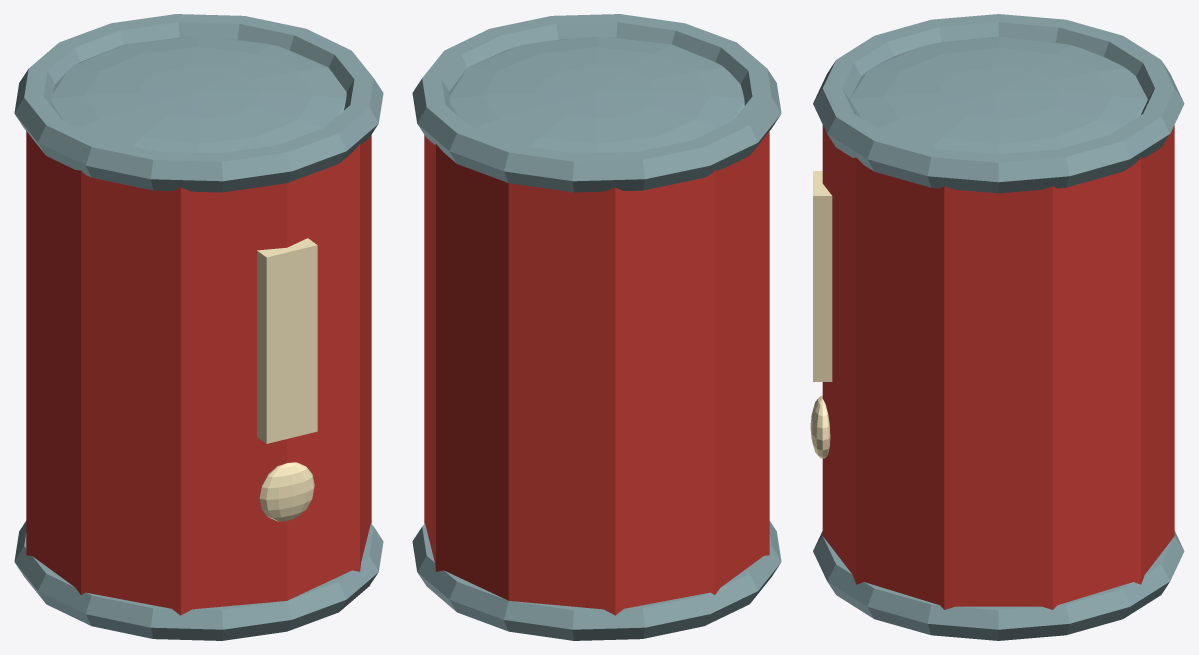
The model's file is fizzy.glb.
3 views of the same model, side by side, from view 1: azimuth 30°, elevation 25°; view 2: azimuth 150°, elevation 25°; view 3: azimuth 270°, elevation 25° (orthographic).
Visible parts, largest first — view 1: Can, Top, Can rim.001, Can rim, Exclamation, Dot; view 2: Can, Top, Can rim.001, Can rim; view 3: Can, Top, Can rim.001, Can rim, Exclamation, Dot.
Part boxes in pixels (<box>): Can: <box>26,131,371,615</box>; Top: <box>51,36,346,153</box>; Can rim.001: <box>14,14,383,192</box>; Can rim: <box>14,521,383,640</box>; Exclamation: <box>257,238,317,443</box>; Dot: <box>259,462,314,521</box>; Can: <box>424,131,769,615</box>; Top: <box>449,36,744,153</box>; Can rim.001: <box>412,14,781,192</box>; Can rim: <box>412,521,781,640</box>; Can: <box>822,125,1174,609</box>; Top: <box>849,36,1147,154</box>; Can rim.001: <box>813,14,1184,193</box>; Can rim: <box>813,531,1184,640</box>; Exclamation: <box>813,171,832,381</box>; Dot: <box>810,395,830,458</box>.
Size of the model in its own units: 0.76 by 1.08 by 0.765.
